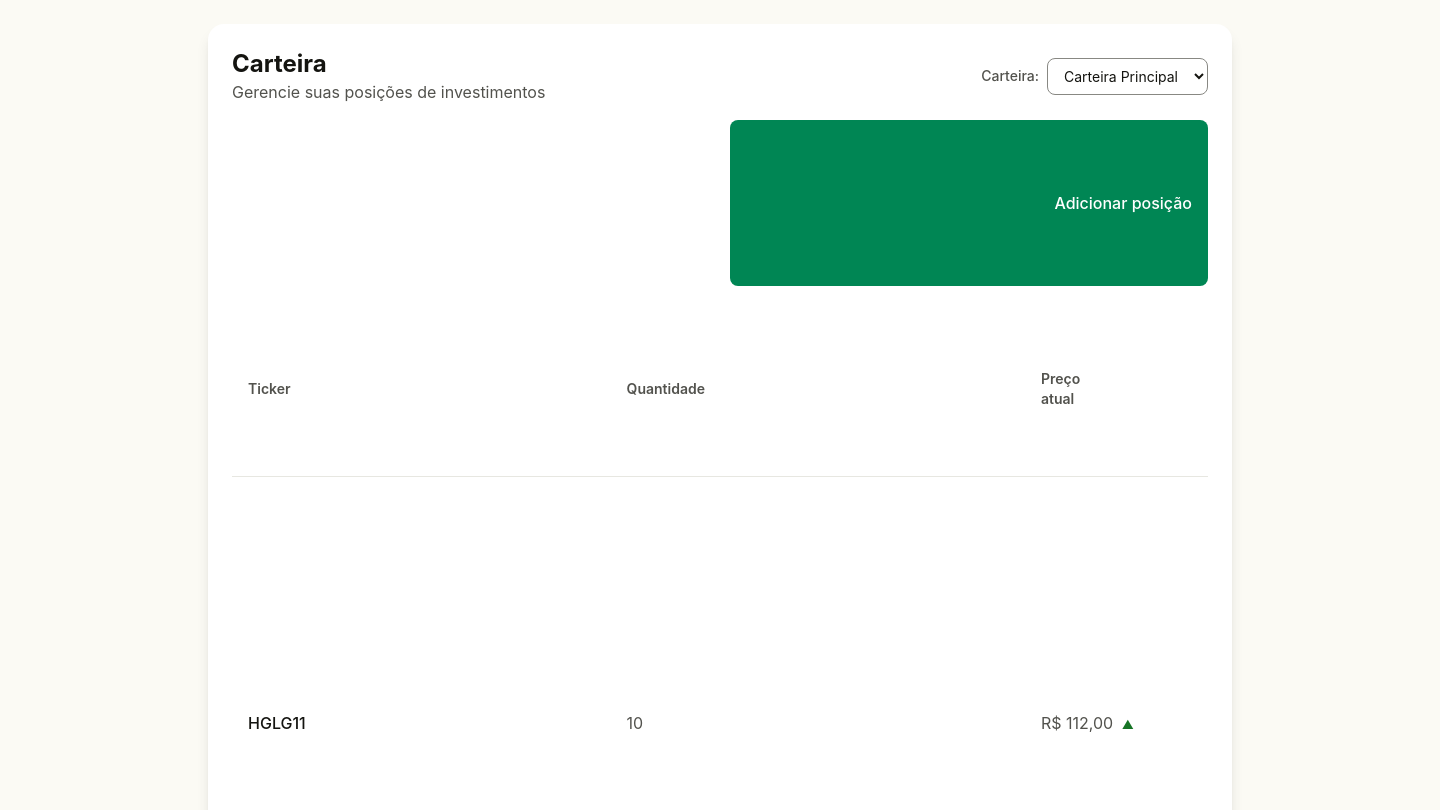
Test: WalletComponent › deve abrir formulário ao clicar em adicionar posição
Click the button with test id "btn-adicionar" at (969,203), box [730,120,1208,286]
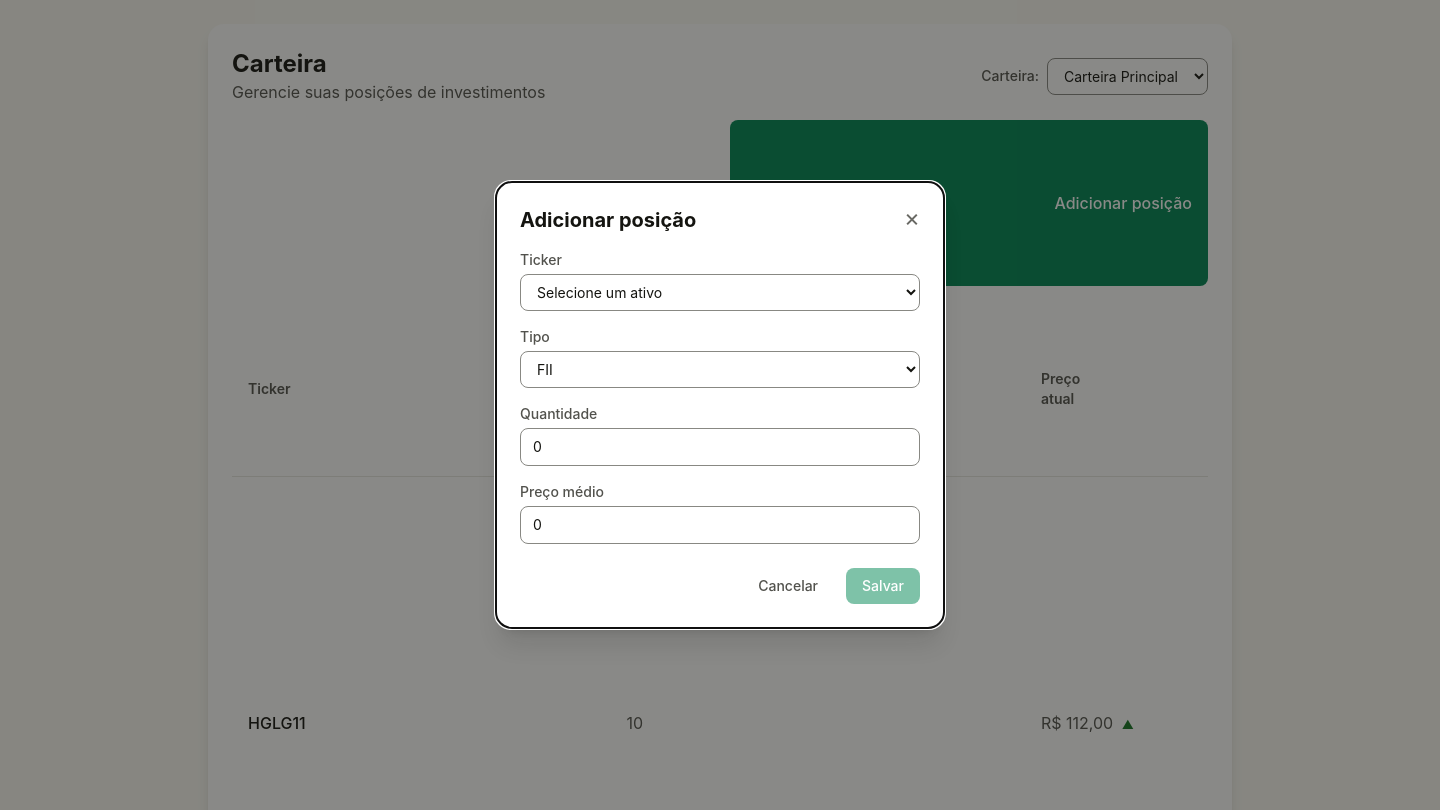
Expected: the dialog with test id "position-form" is shown, [496,182,944,628]
